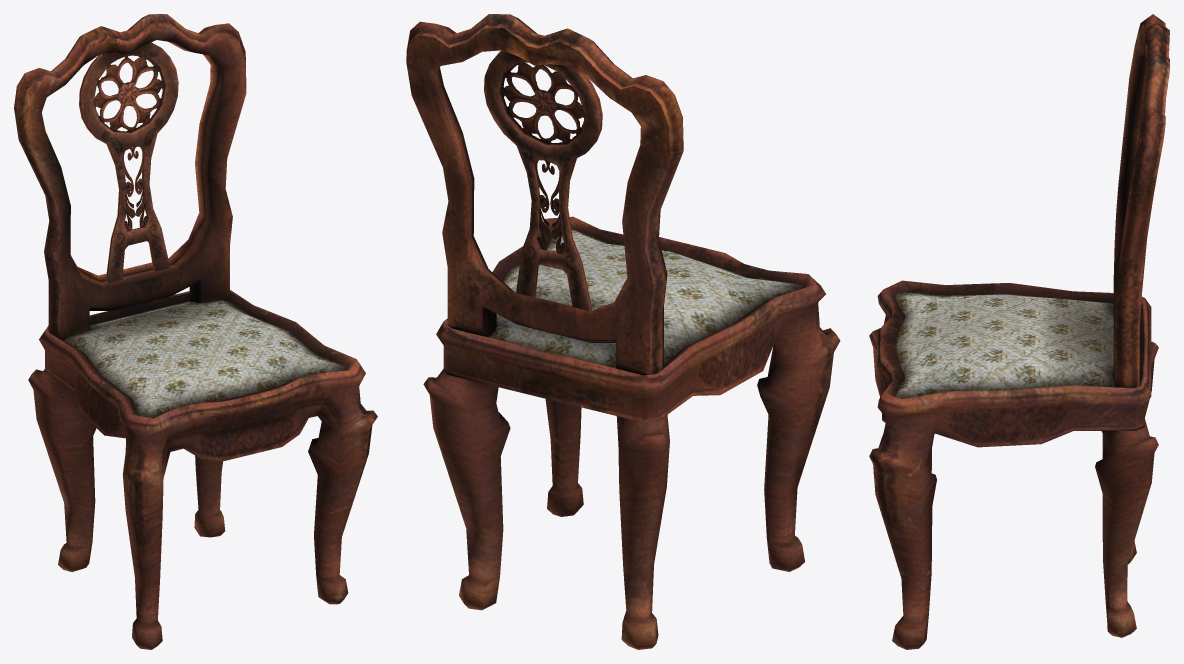
The model's file is chair_nice01_alt.dae.
3 renders of one model, left to right at view 1: azimuth 30°, elevation 25°; view 2: azimuth 150°, elevation 25°; view 3: azimuth 270°, elevation 25°, orthographic. The views are drawn at different scales.
Parts seen in each view (by area): view 1: polySurface17; view 2: polySurface17; view 3: polySurface17.
Part boxes in pixels (bbox=[...]): polySurface17: bbox=[14, 14, 377, 649]; polySurface17: bbox=[406, 14, 840, 649]; polySurface17: bbox=[869, 14, 1169, 649].
Size of the model in its own units: 0.6539 by 1.31 by 0.6397.
1 material, 1 textured.
